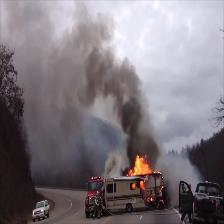fire: (132, 154, 150, 173)
smoke: (21, 26, 100, 75), (111, 85, 142, 145)
